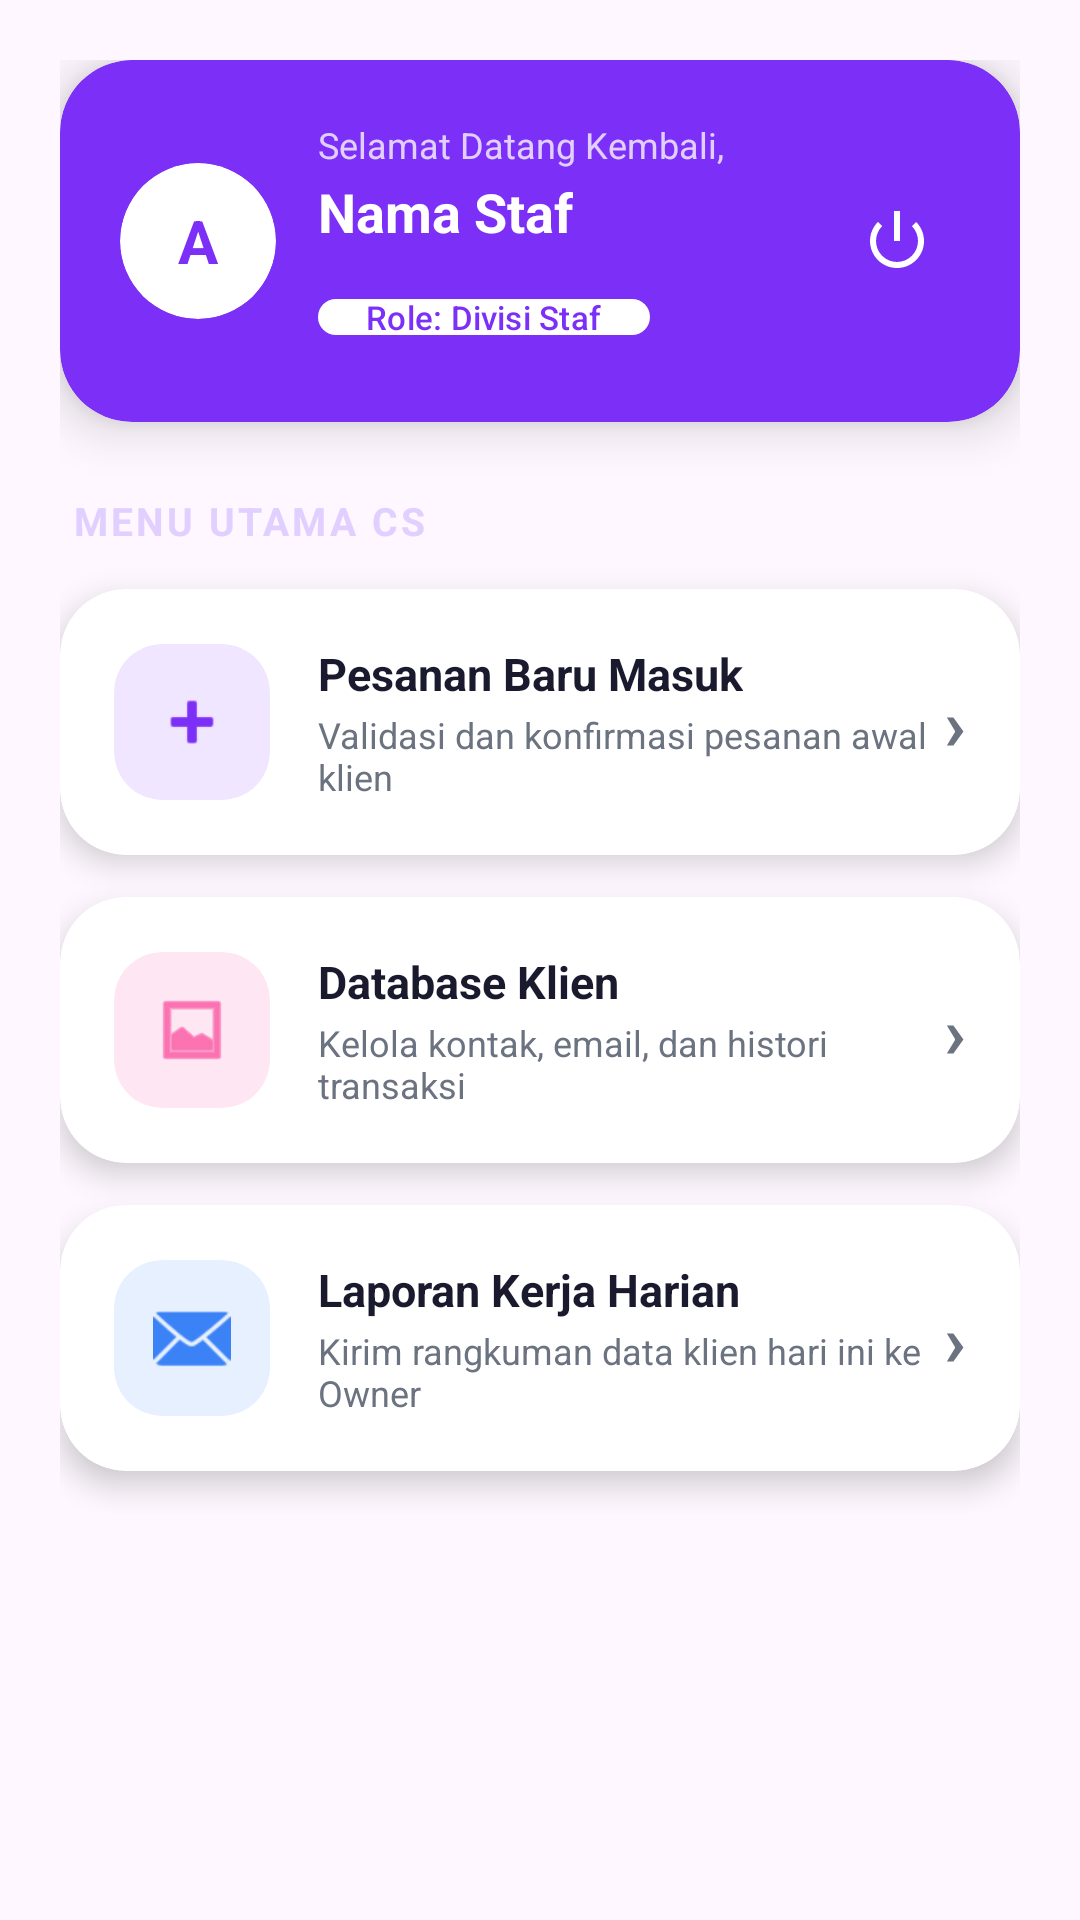

Named icons in this screenshot (1080px x 1920px) and their bounding boxes, (x1, y1, x2, y2):
add: (170, 700, 214, 744)
email: (153, 1311, 231, 1366)
gallery: (163, 1001, 221, 1059)
